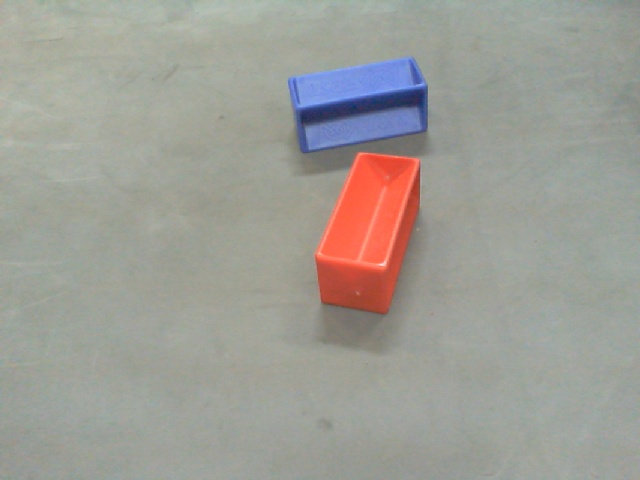BlueSample: (286, 56, 428, 154)
RedSample: (313, 150, 421, 314)
